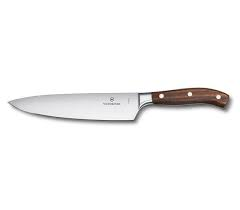knife: (6, 86, 230, 123)
